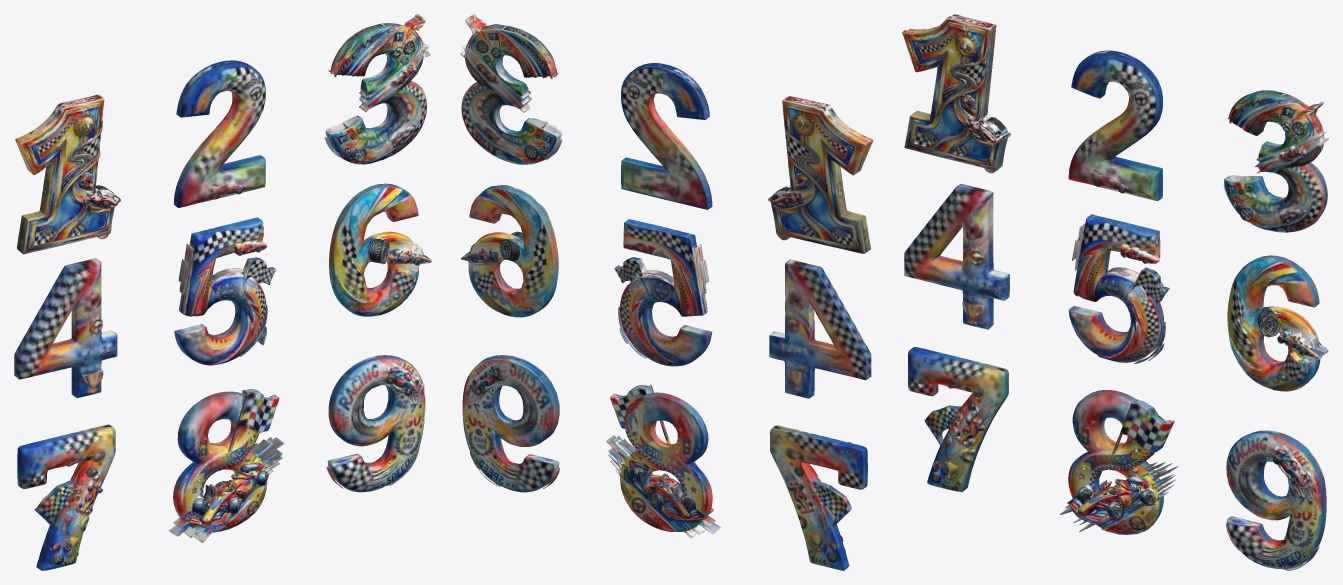
3 views of the same model, side by side, from view 1: azimuth 30°, elevation 25°; view 2: azimuth 150°, elevation 25°; view 3: azimuth 330°, elevation 25° (orthographic). The views are drawn at different scales.
Bounding box in the file's own units: 1.75 × 1.9 × 0.1072.
Materials: 1 (1 with a texture image).
